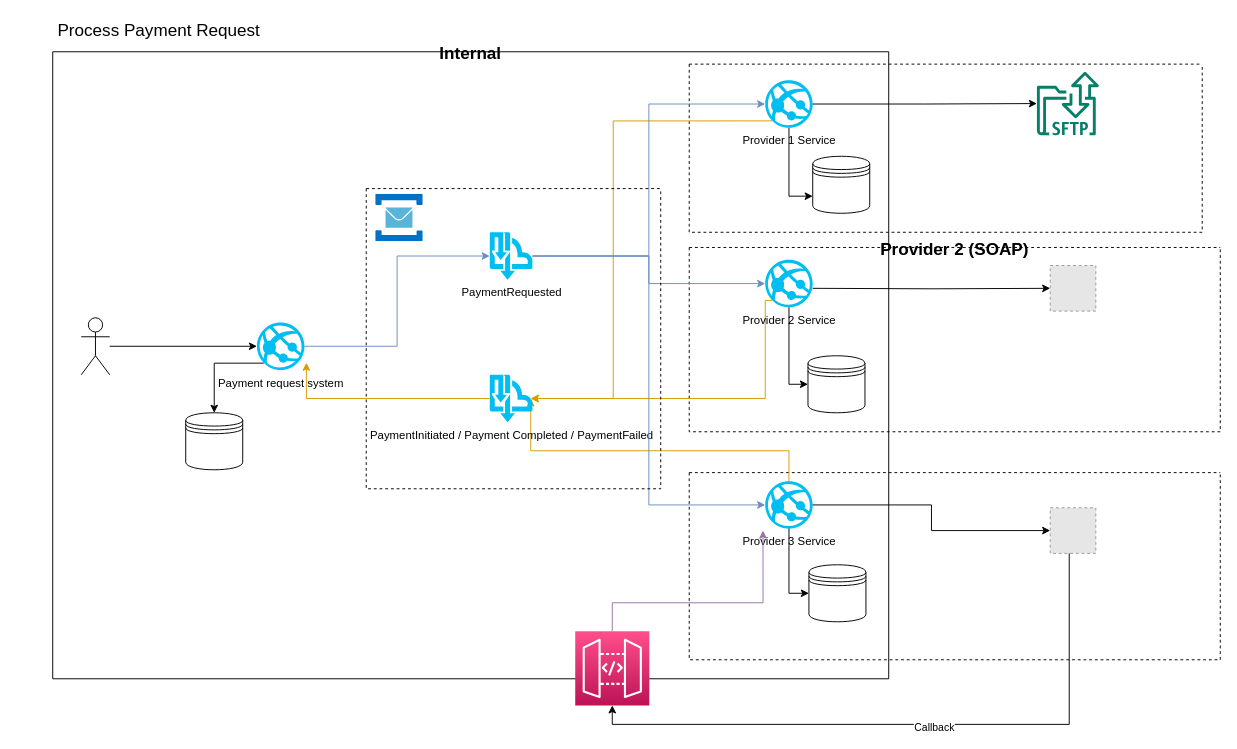
The diagram is 1237 pixels wide and 749 high, and some of its shapes have lost their labels. Grey dashed boxes stand in for pictures. Here are the shapes that lost their labels. From the top down, the box of each, then its label:
(688, 63, 1202, 232): Provider 1 (SFTP)
(80, 317, 110, 375): User
(688, 472, 1220, 660): Provider 3 (HTTP POST w callback)
(574, 630, 649, 705): API Gateway
